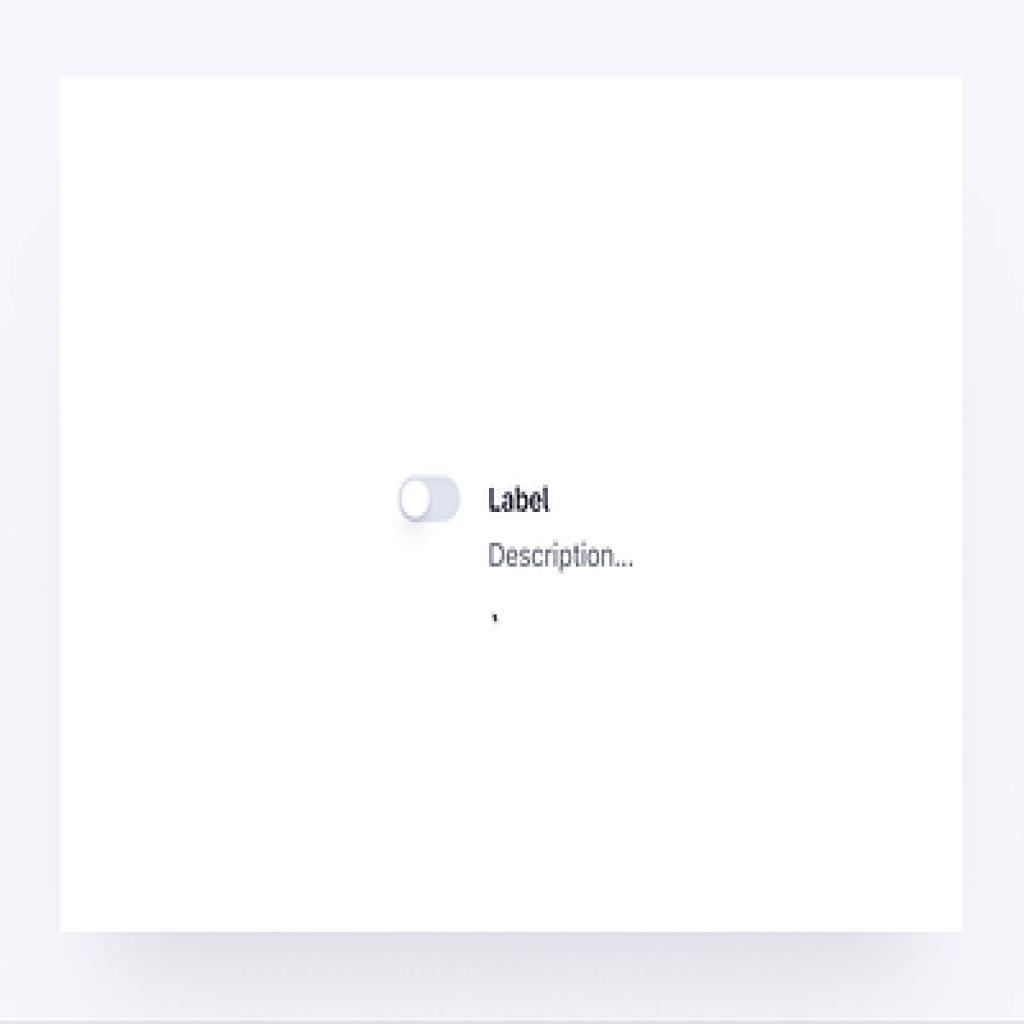label: (484, 482, 562, 519)
switch: (397, 476, 463, 525)
